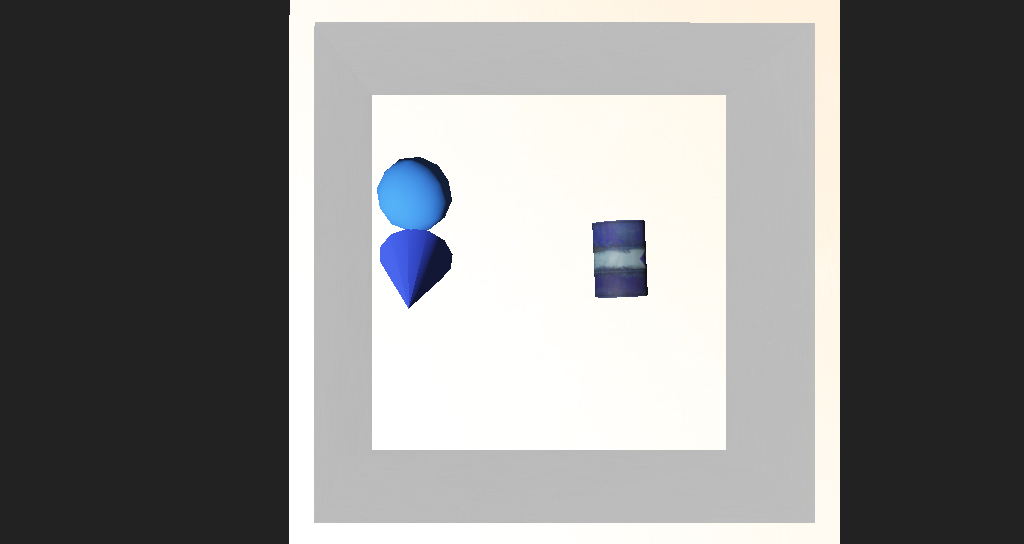cone: (539, 234, 593, 282)
cylinder: (344, 241, 424, 313)
sphere: (357, 203, 424, 246)
